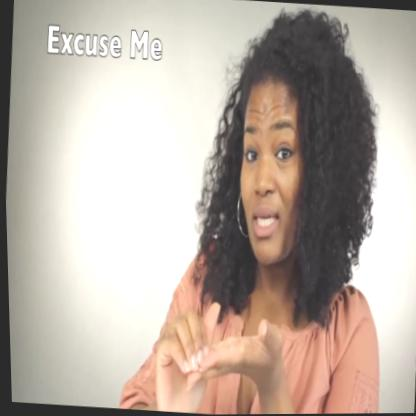ExcuseMe: (127, 6, 404, 415)
